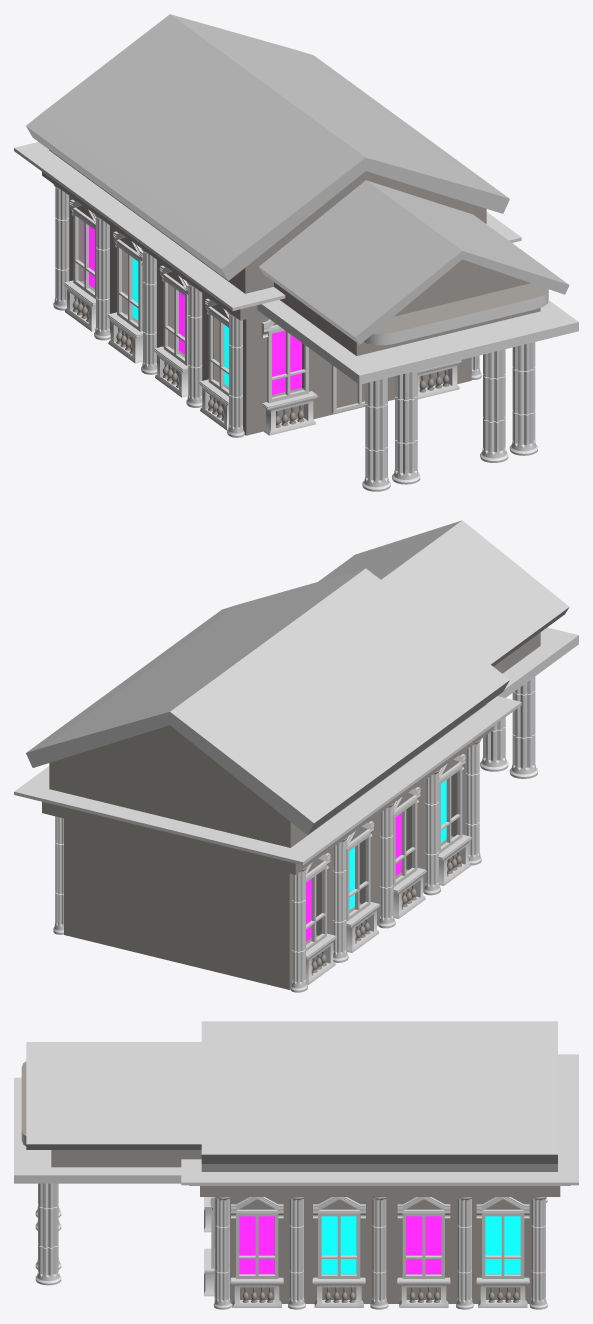
Rendered from museumblueandpink.fbx.
3 renders of one model, top to bottom at view 1: azimuth 30°, elevation 25°; view 2: azimuth 150°, elevation 25°; view 3: azimuth 270°, elevation 25°, orthographic. The views are drawn at different scales.
Visible parts, largest first — view 1: Museum body.003; view 2: Museum body.003; view 3: Museum body.003.
Boxes of the visible parts, x1,y1,x2,y2 form: Museum body.003: (14, 14, 578, 491); Museum body.003: (14, 520, 578, 992); Museum body.003: (14, 1021, 578, 1309).
Bounding box in the file's own units: 460 × 389 × 856.
